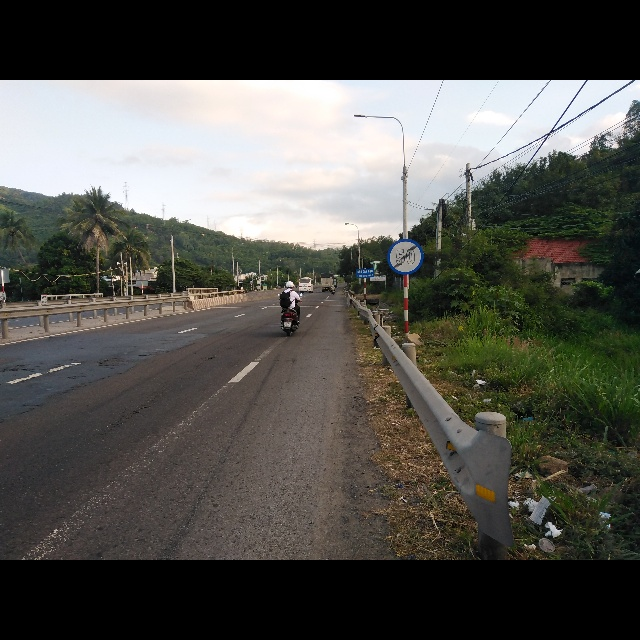Hết hạn chế tốc độ tối đa 50km/h: (387, 237, 424, 276)
